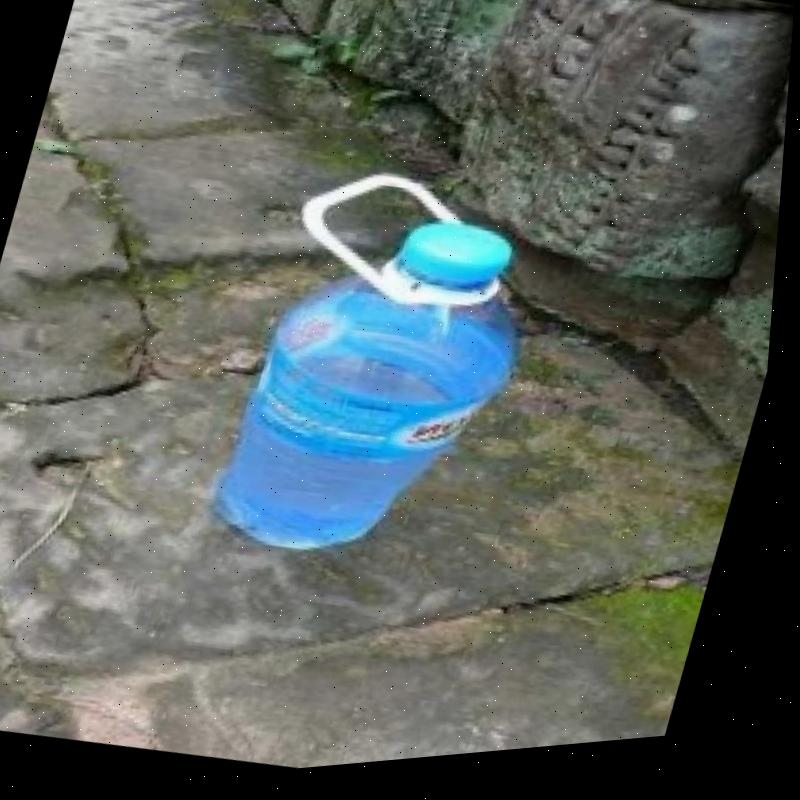botella: (200, 189, 564, 606)
